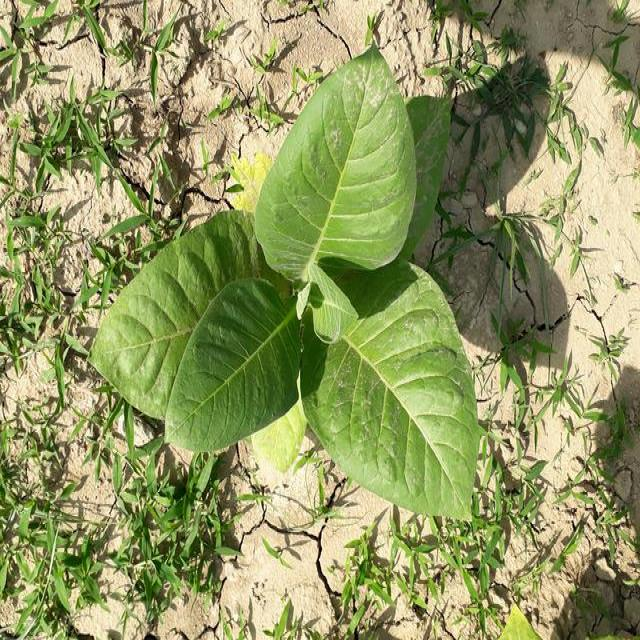crop: (96, 57, 476, 530)
